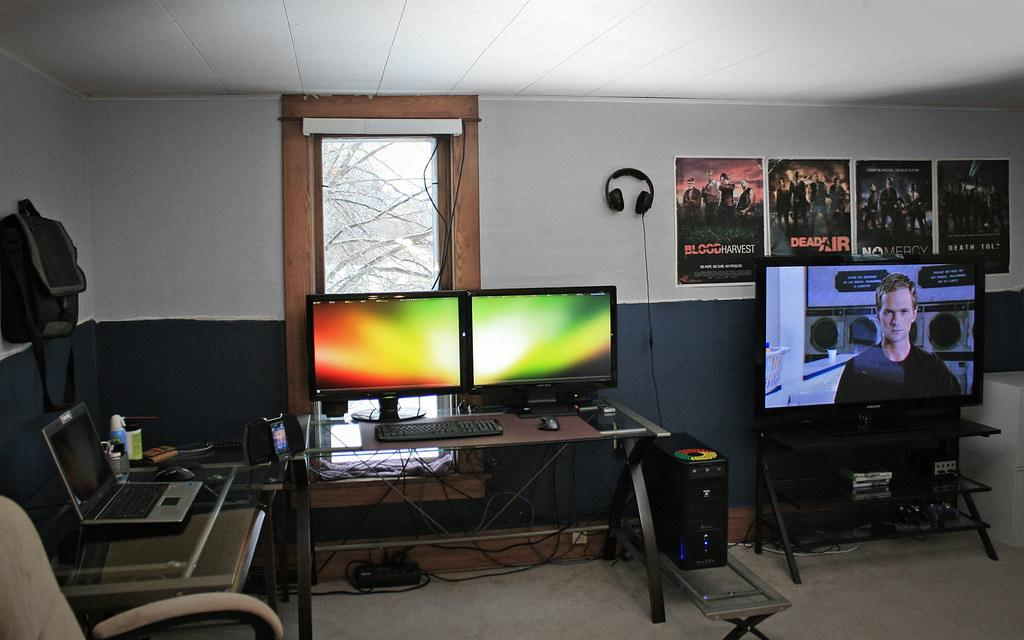computer: (754, 255, 986, 435), (306, 290, 469, 423), (42, 402, 205, 527), (468, 285, 619, 417), (649, 432, 730, 571)
